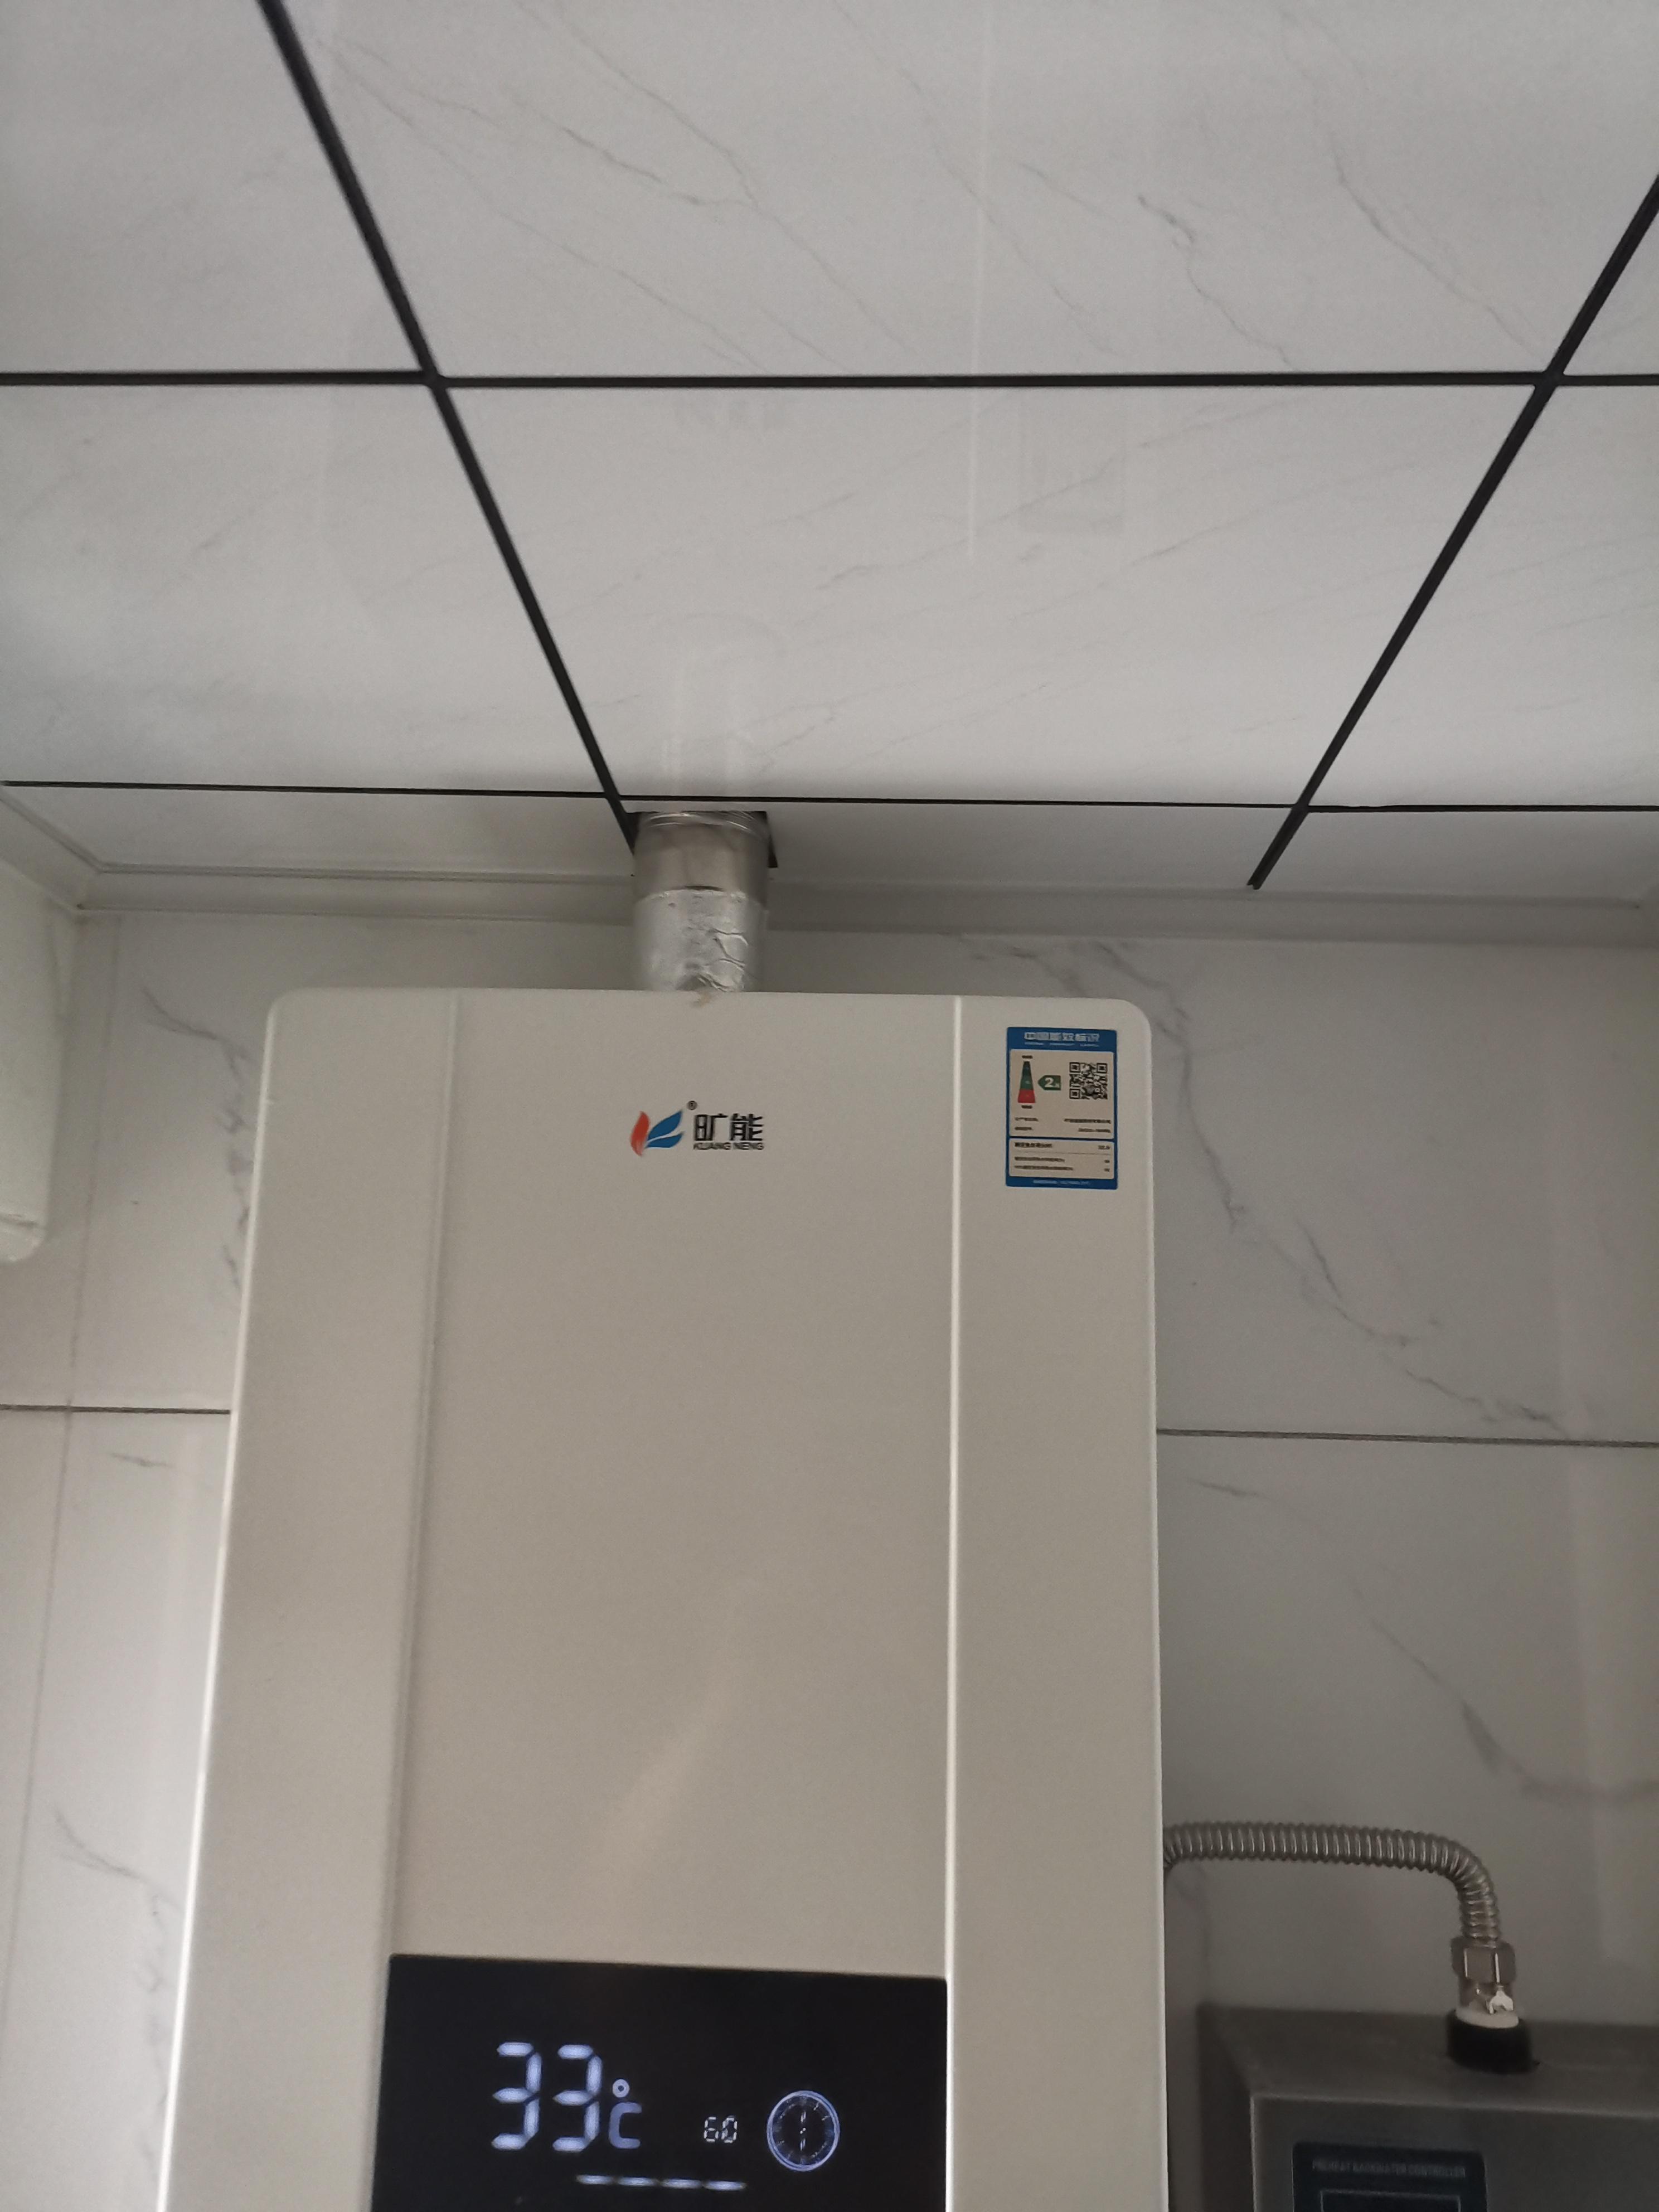loudou: (620, 1083, 782, 1176)
